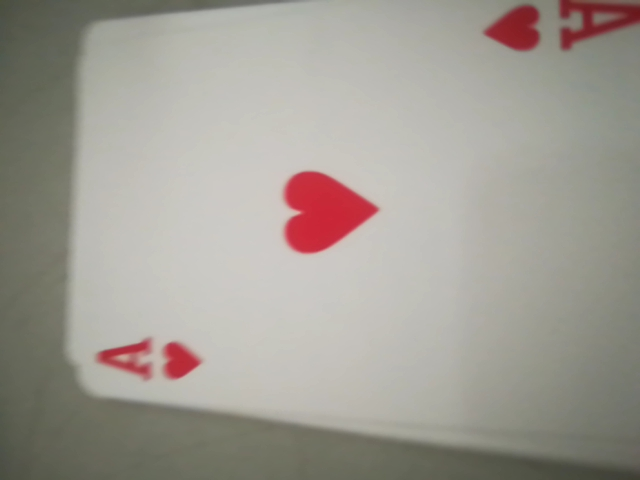hx a: (86, 323, 223, 394)
